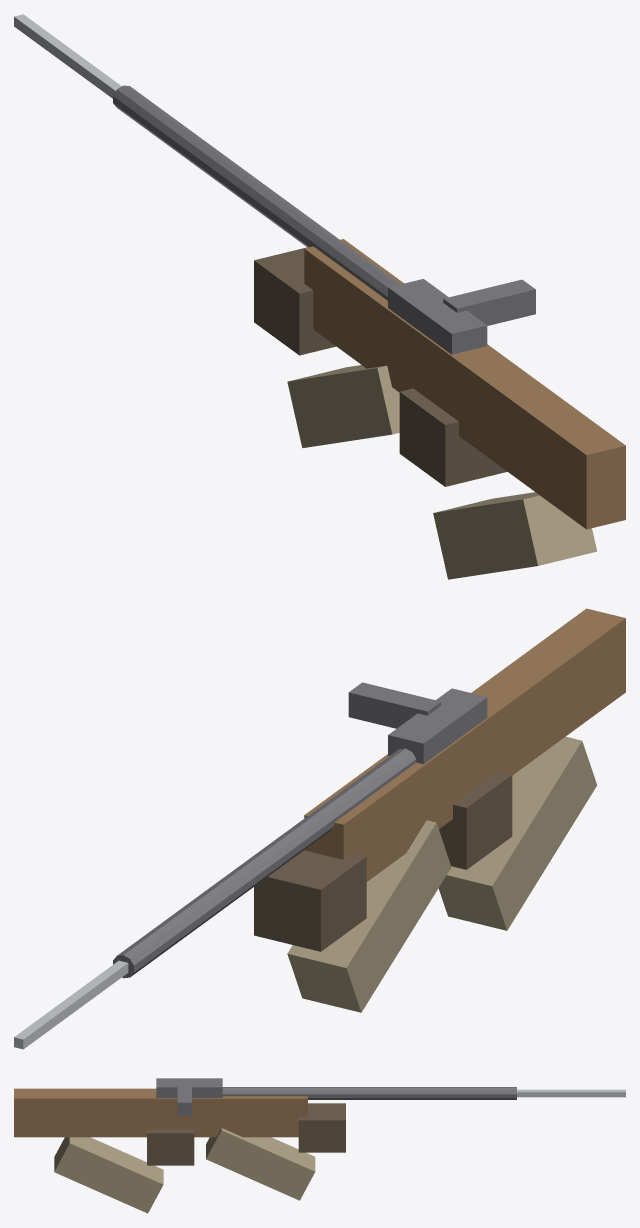
The model's file is miltiq.glb.
3 renders of one model, top to bottom at view 1: azimuth 30°, elevation 25°; view 2: azimuth 150°, elevation 25°; view 3: azimuth 270°, elevation 25°, orthographic. The views are drawn at different scales.
Parts seen in each view (by area): view 1: Miltiq; view 2: Miltiq; view 3: Miltiq.
Part boxes in pixels (x1,y1,x2,y2): Miltiq: (14, 14, 625, 579); Miltiq: (14, 608, 625, 1049); Miltiq: (14, 1078, 625, 1213).
Size of the model in its own units: 0.1525 by 0.2919 by 1.29.
